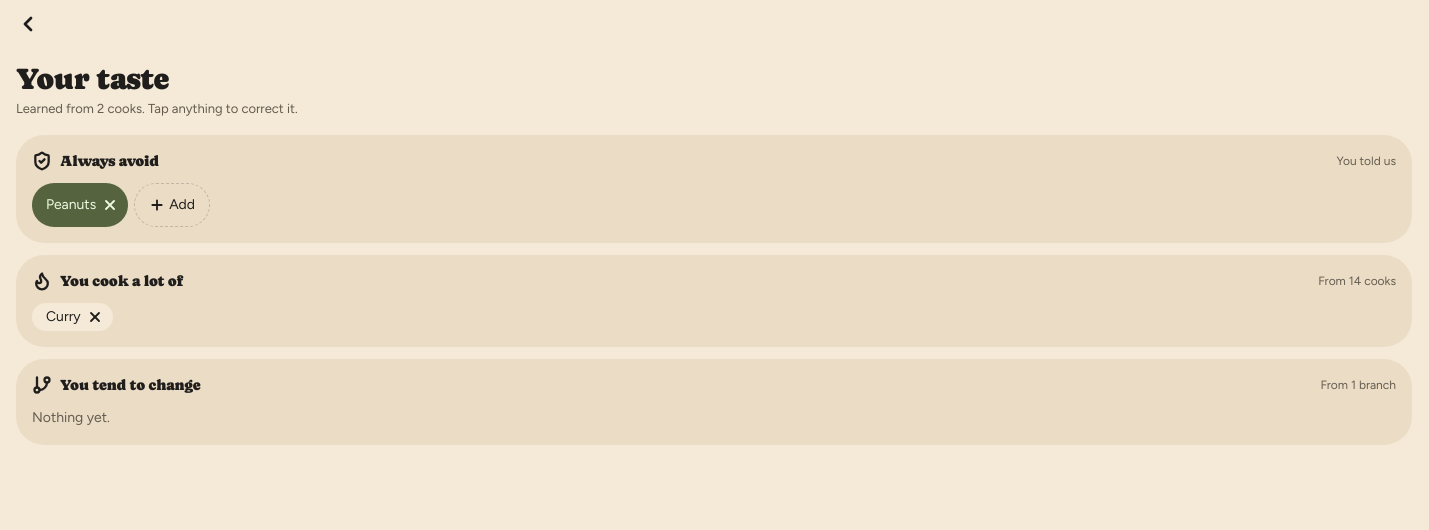
Test: TastePage (RL-232) › adds an avoid and shows the hook error inline
This screenshot has width=1429, height=530.
Click the button "Add" at (172, 205), box [134,183,210,227]
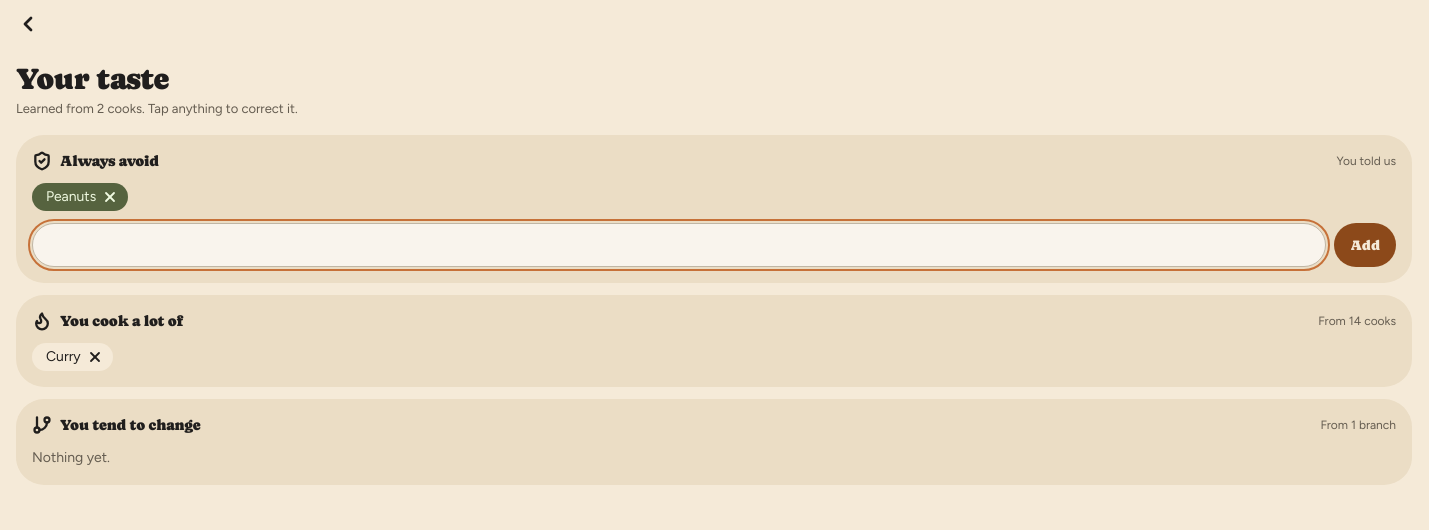
Type "Soy" into the field named "Add something to avoid" at (679, 245), box [32,223,1326,267]
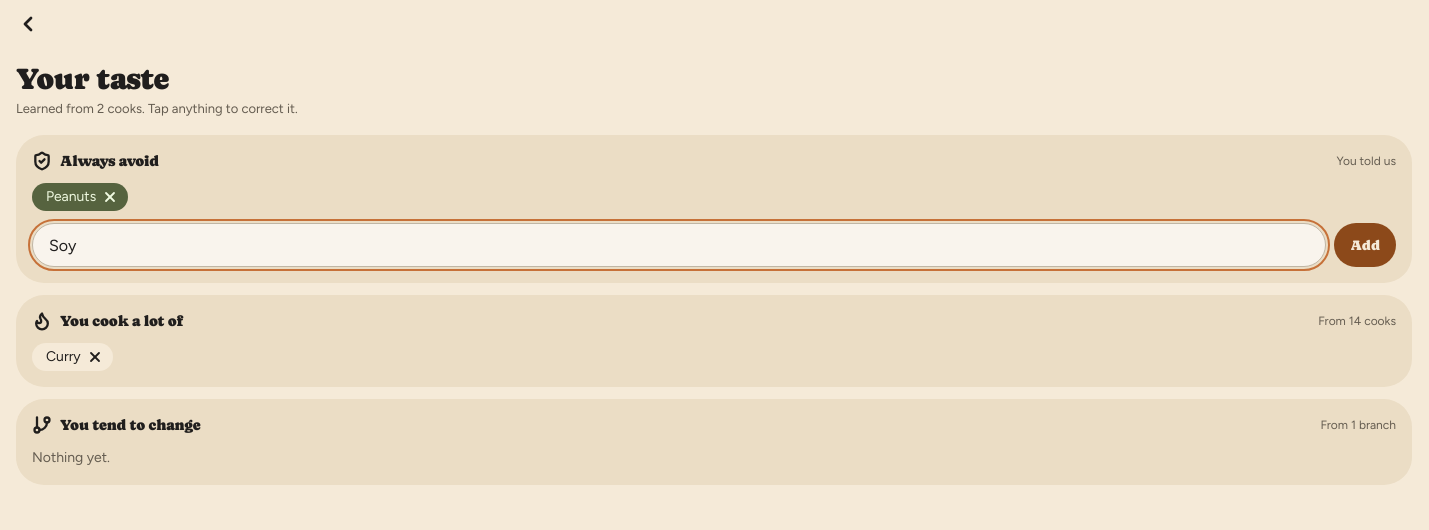
Submit the form named "Add something to avoid", box [32,211,1396,267]
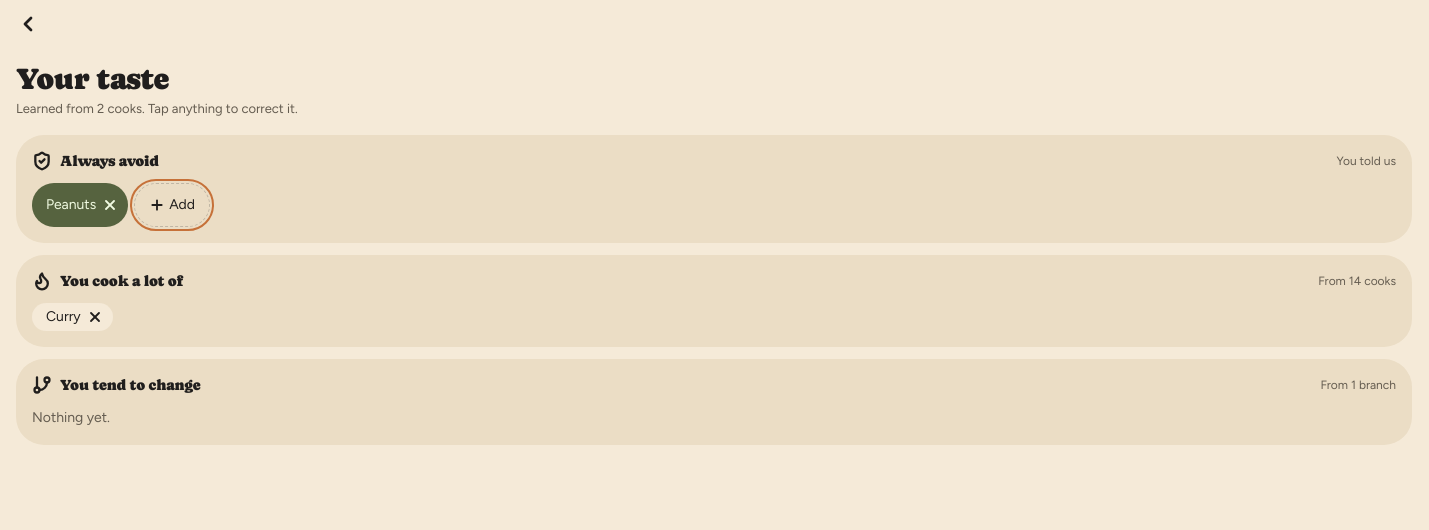
Click the button "Add" at (172, 205), box [134,183,210,227]
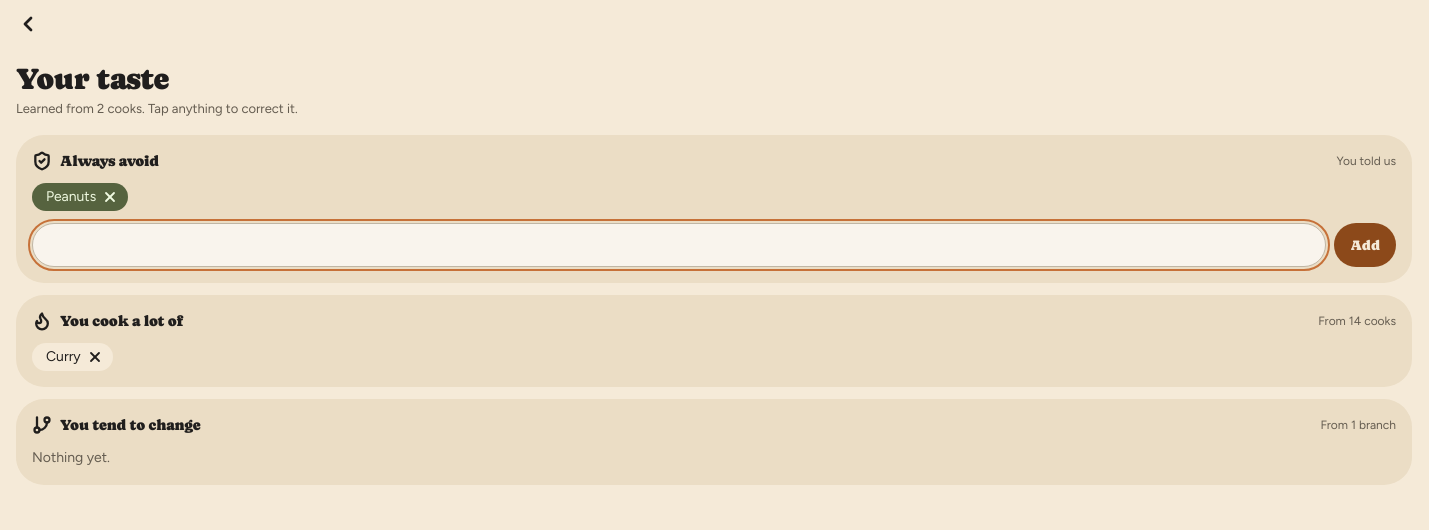
Submit the form named "Add something to avoid", box [32,211,1396,267]
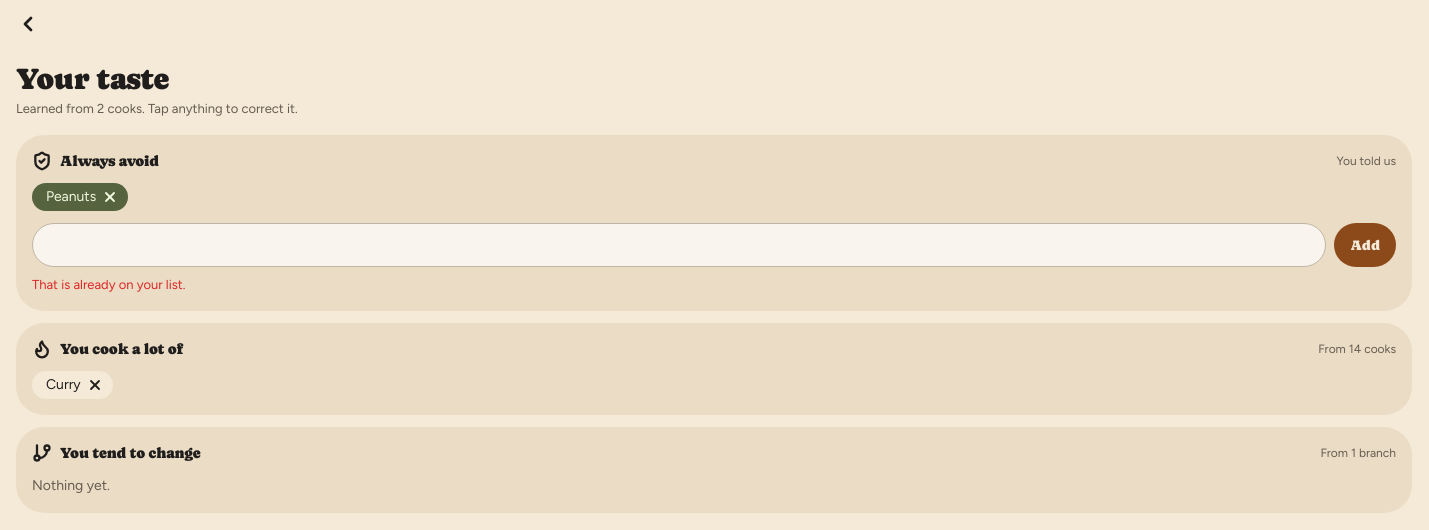
Result: the message shows "already on your list" at [32,277,185,292]
